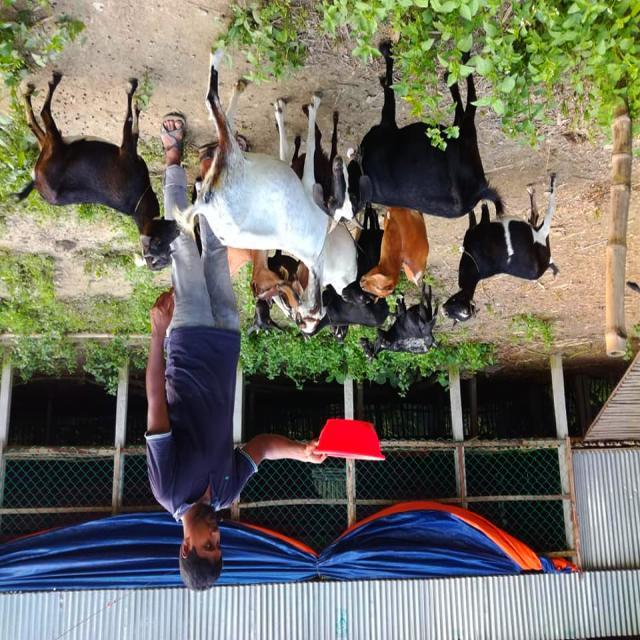Goat: (174, 47, 332, 328), (327, 42, 506, 230), (13, 73, 181, 272), (441, 173, 560, 329)
